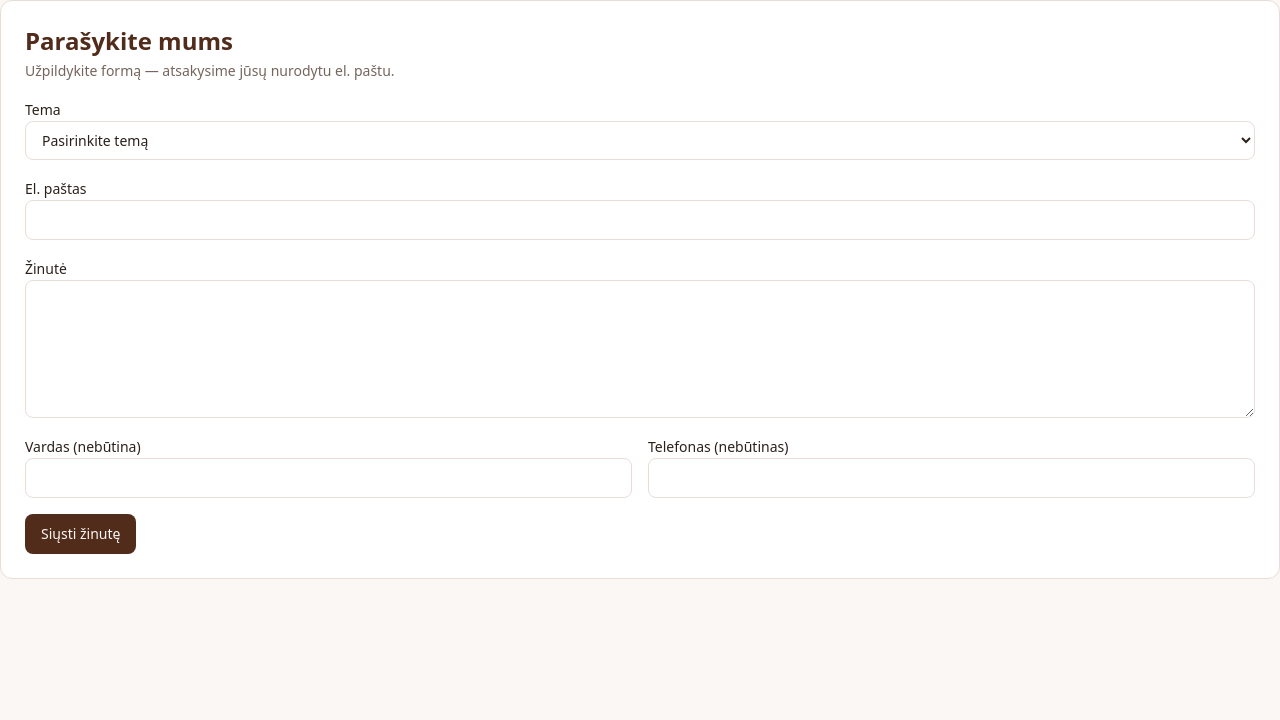
Scenario: ContactForm › preserves entered values and shows a failure message on error
This screenshot has width=1280, height=720.
Select "Užsakymas" in the dropdown labelled "Tema" at (640, 140), box [25,121,1255,160]
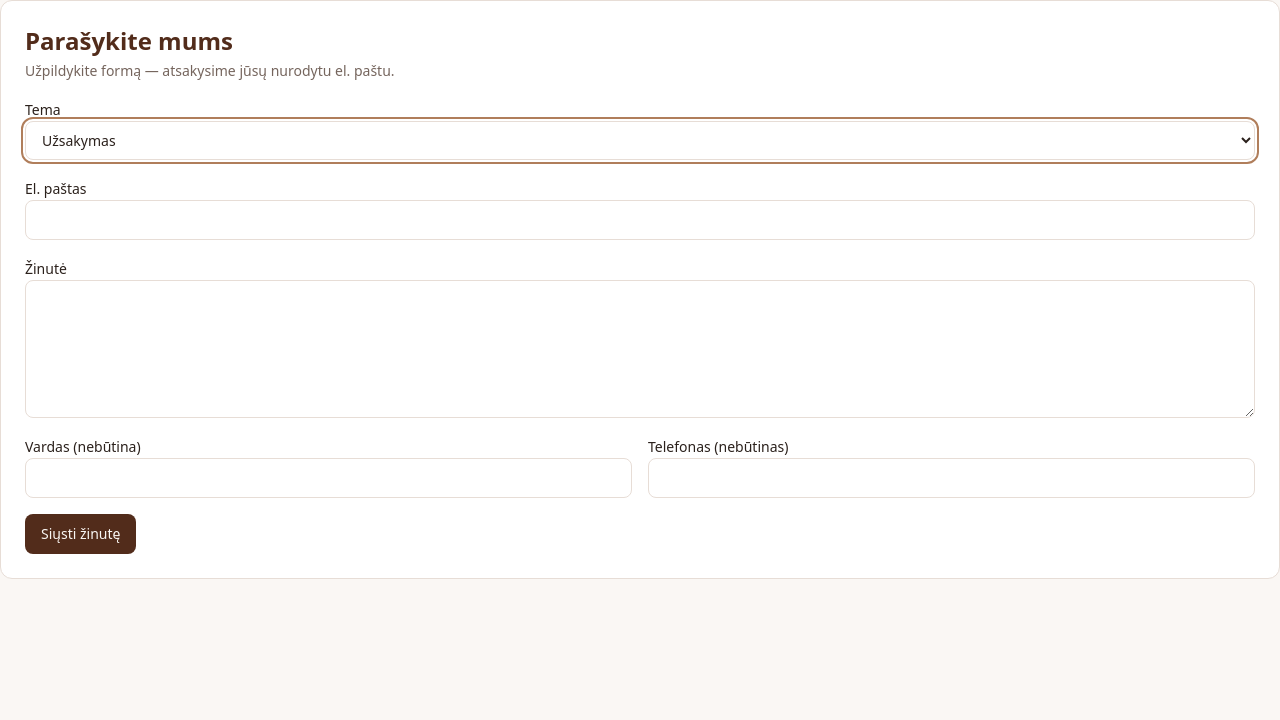
Type "visitor@example.test" into the field labelled "El. paštas".
click(640, 220); type("visitor@example.test")  # box [25,200,1255,240]
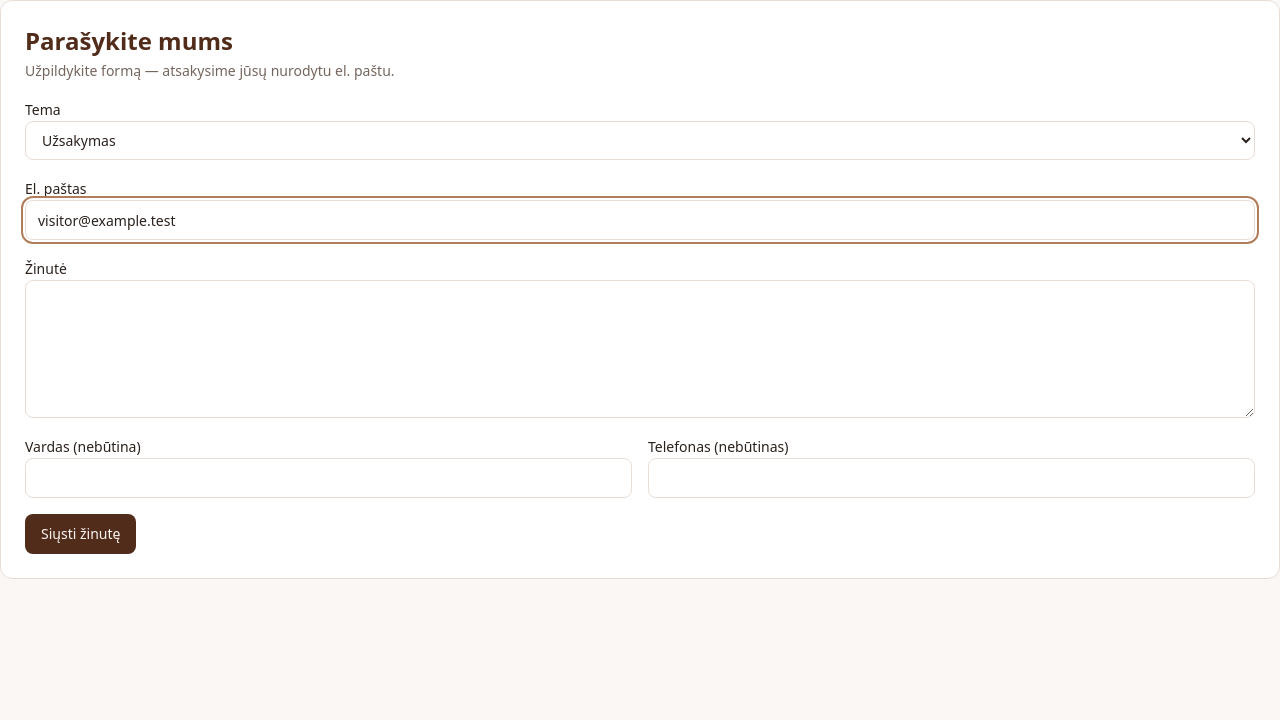
Type "Labas, turiu klausimą." into the text box labelled "Žinutė".
click(640, 349); type("Labas, turiu klausimą.")  # box [25,280,1255,418]
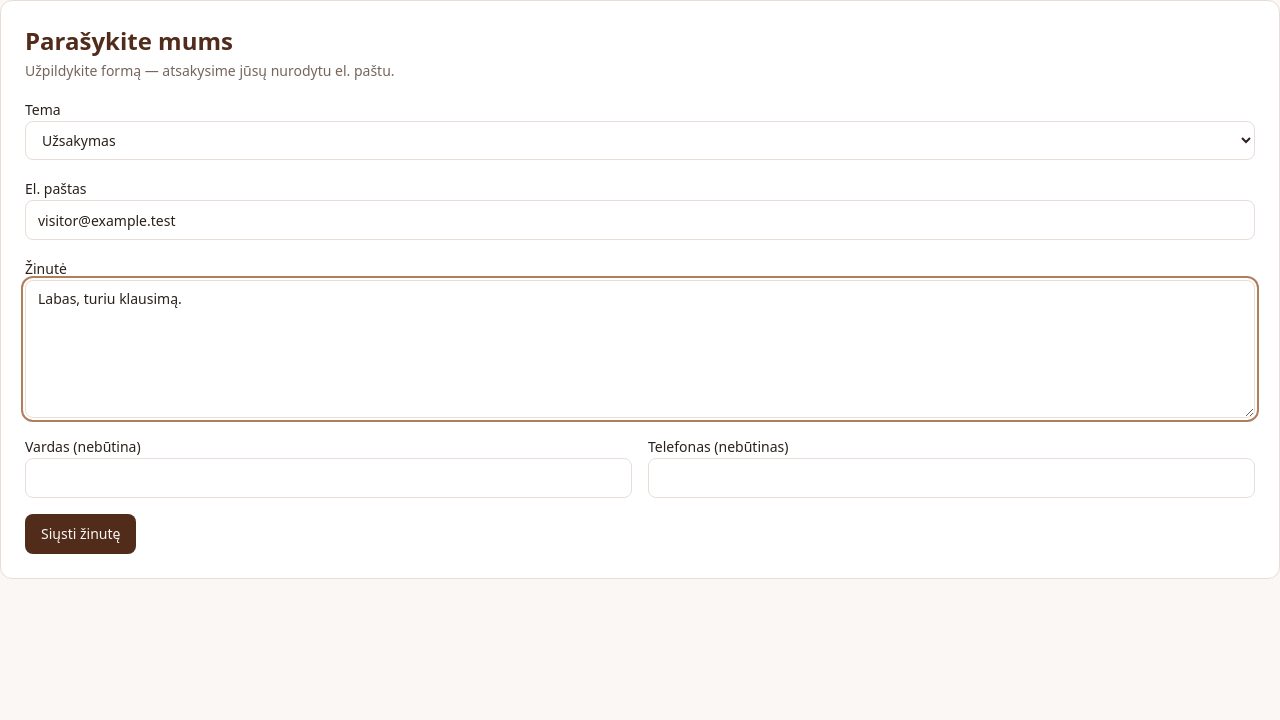
Click the button "Siųsti žinutę".
click(81, 534)  # box [25,514,136,554]
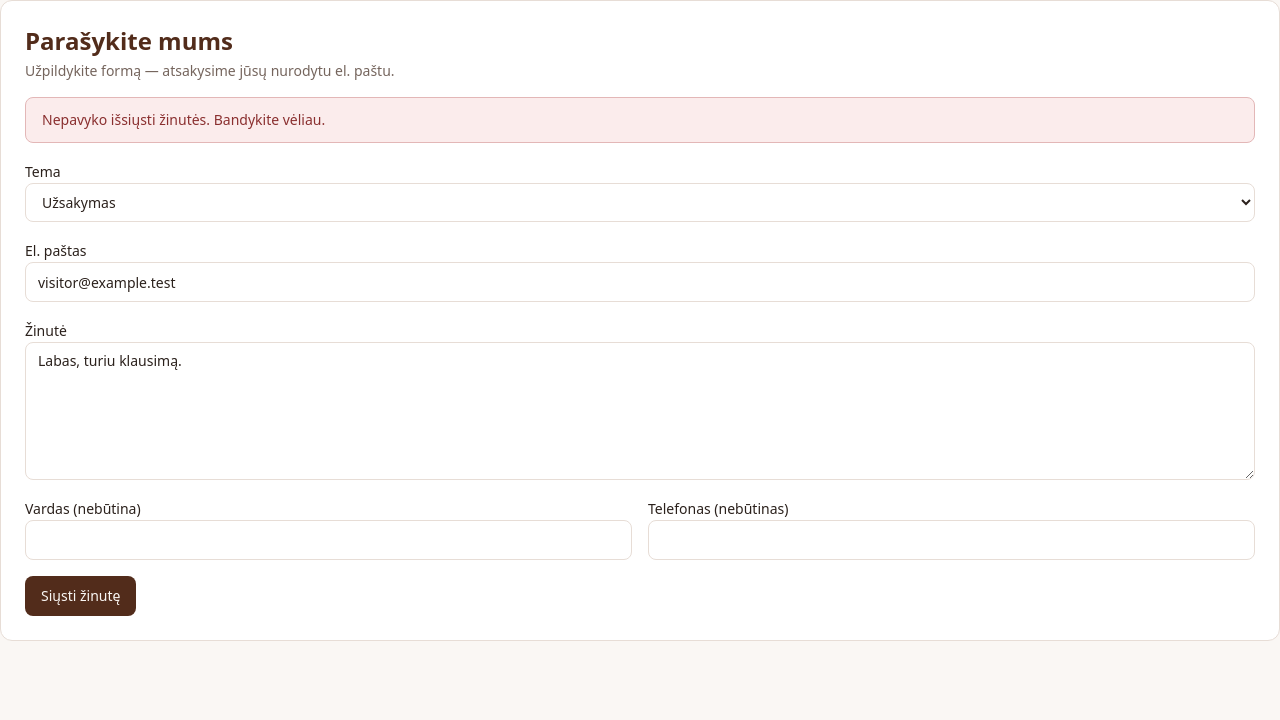
Expected: the text "Nepavyko išsiųsti žinutės. Bandykite vėliau." is shown, [25,97,1255,143]
